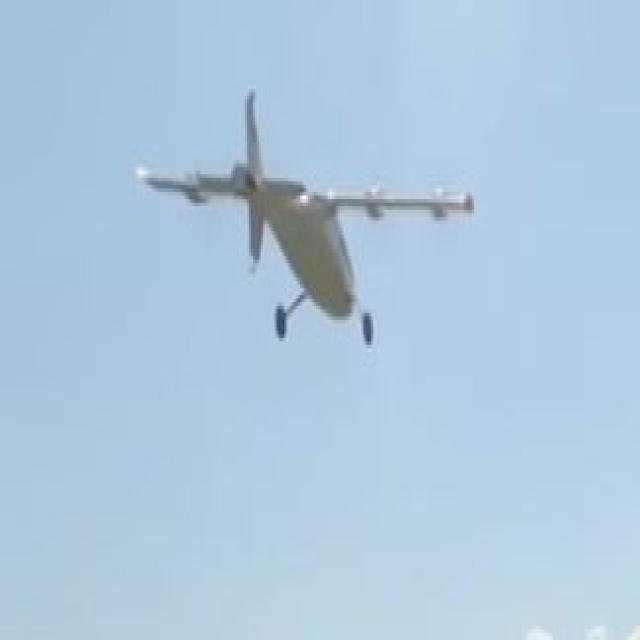iha: (135, 90, 477, 348)
